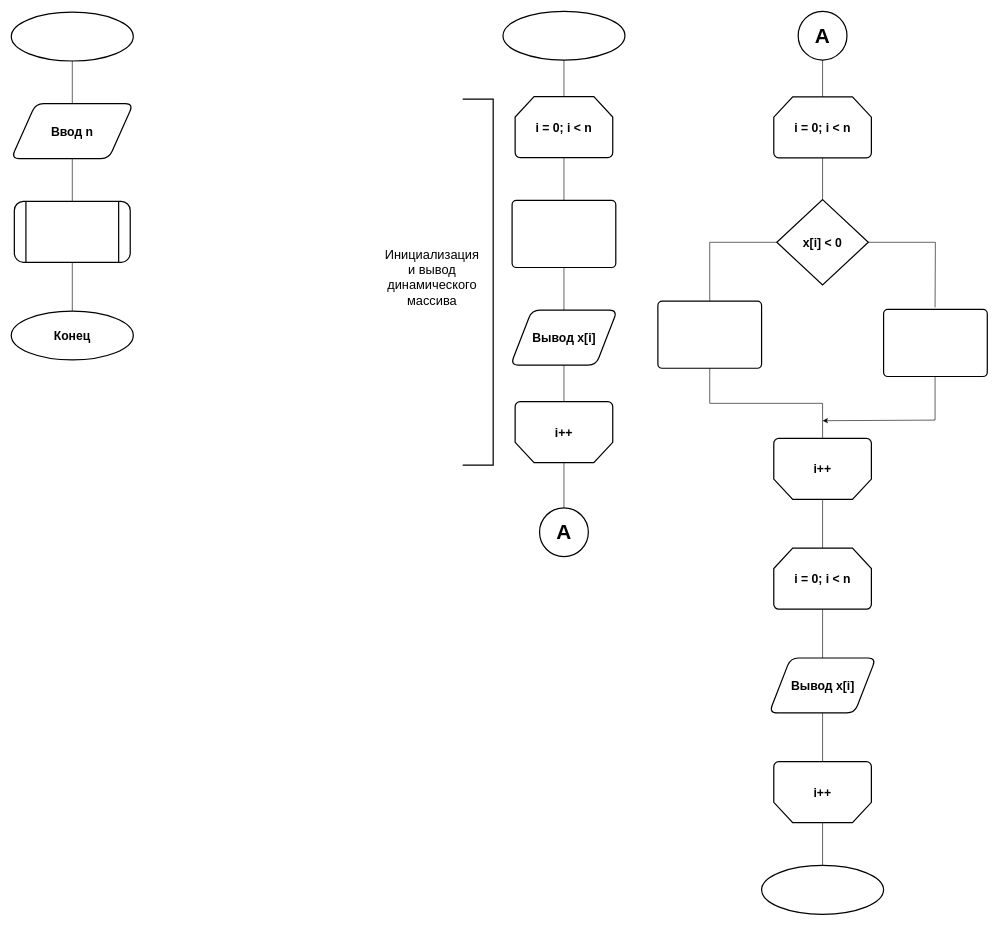
Some shapes in this 998 by 925 pixel diagram are drawn without their labels. Each missing label, with the centre of its shape:
"func(n)" belongs at point (72, 231).
"x[i] += 0.5" belongs at point (709, 334).
"x[i] = 0.1" belongs at point (935, 342).
"x[i] = e^(-0.5 * i - 2 * M_PI) - arctg(i + 0,1)" belongs at point (563, 233).
"Конец func" belongs at point (822, 890).
"Начало" belongs at point (72, 36).
"Начало func" belongs at point (563, 35).
